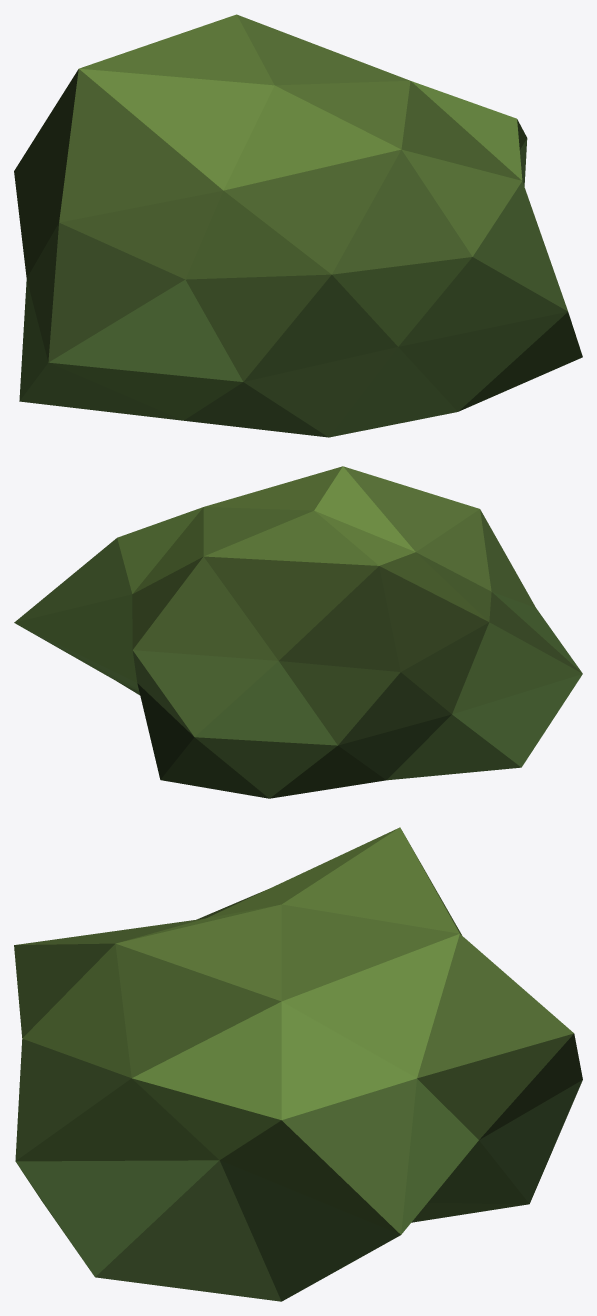
The model's file is bush.glb.
3 renders of one model, top to bottom at view 1: azimuth 30°, elevation 25°; view 2: azimuth 150°, elevation 25°; view 3: azimuth 270°, elevation 25°, orthographic. The views are drawn at different scales.
Parts seen in each view (by area): view 1: bush; view 2: bush; view 3: bush.
Part boxes in pixels (box(x1,y1,x2,y2)): bush: box(14, 14, 582, 437); bush: box(14, 466, 582, 798); bush: box(14, 827, 582, 1301).
Size of the model in its own units: 1.18 by 0.5415 by 0.96.
